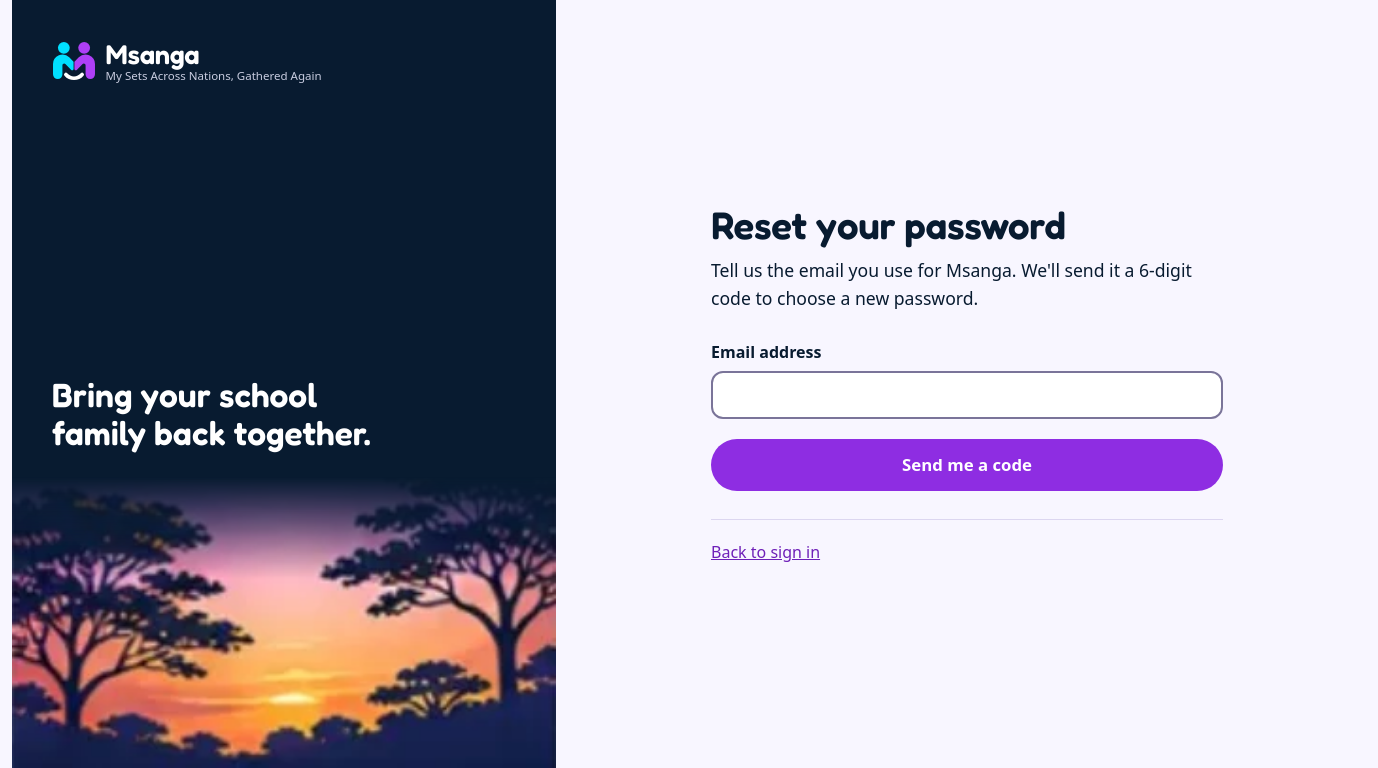
Test case: Forgot and reset password with a code (against the pretend API) › shows a wrong code on the code field, and keeps the page
Check: the heading "Reset your password" is shown, box [711,202,1066,248]
Type "ada@example.com" into the field labelled "Email address".
click(967, 395); type("ada@example.com")  # box [711,371,1223,420]
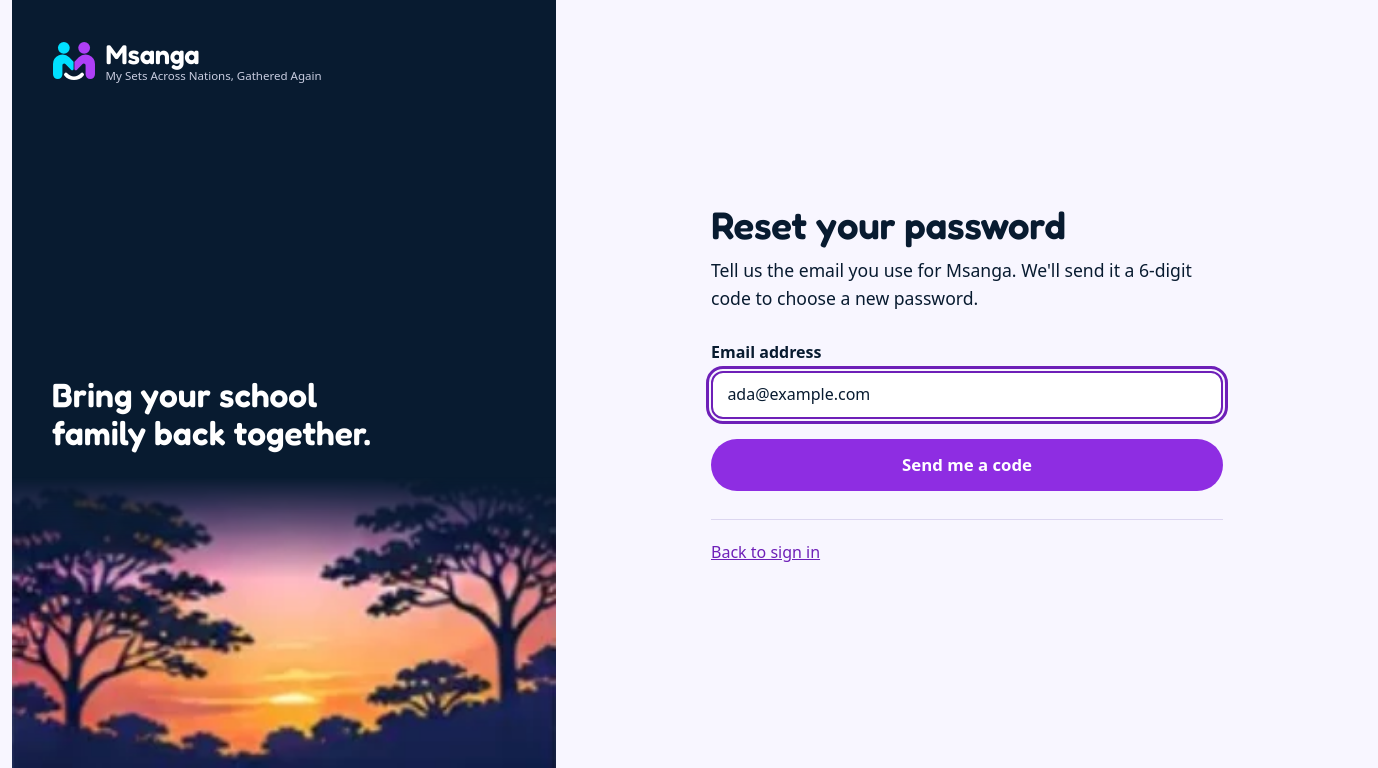
Click the button "Send me a code".
click(967, 466)  # box [711,440,1223,492]
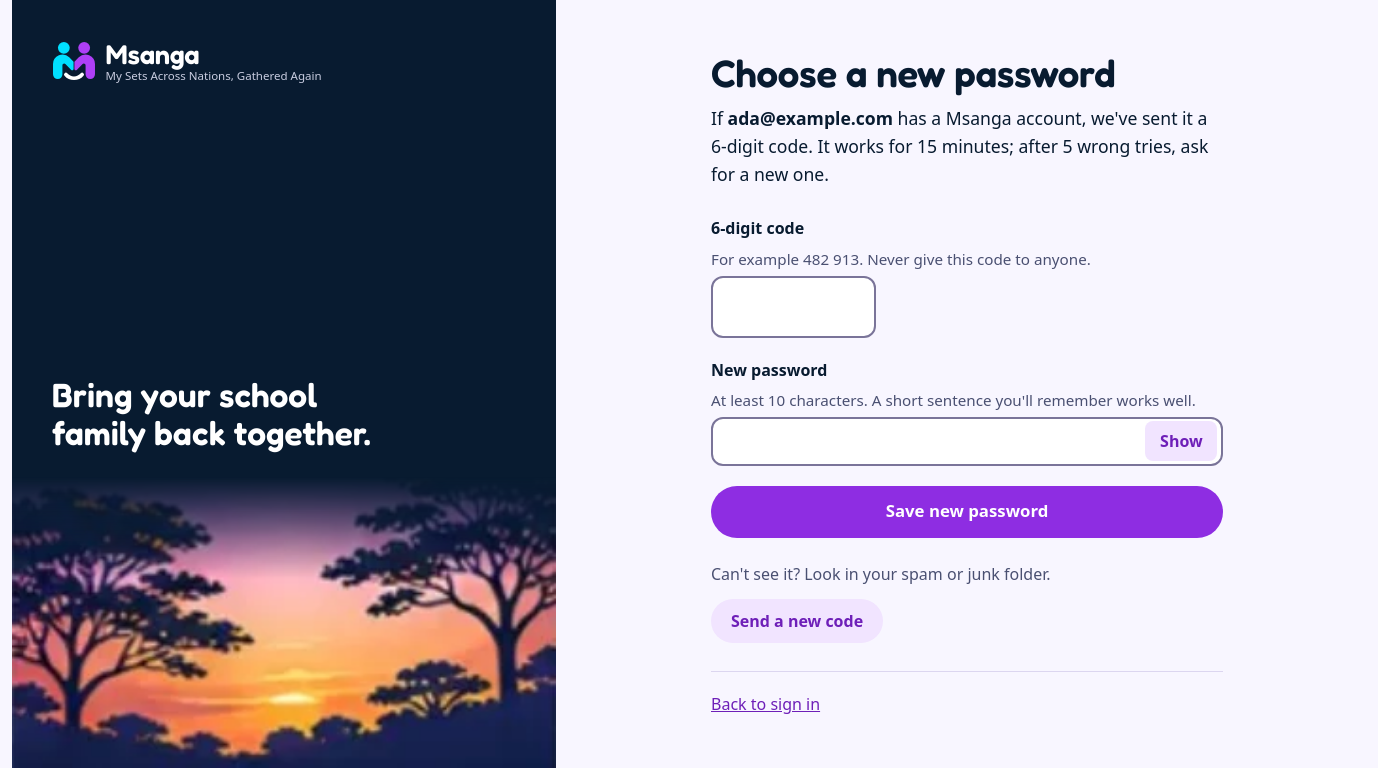
Check: the heading "Choose a new password" is shown, box [711,50,1116,96]
Type "000000" into the field labelled "6-digit code".
click(793, 307); type("000000")  # box [711,276,876,338]
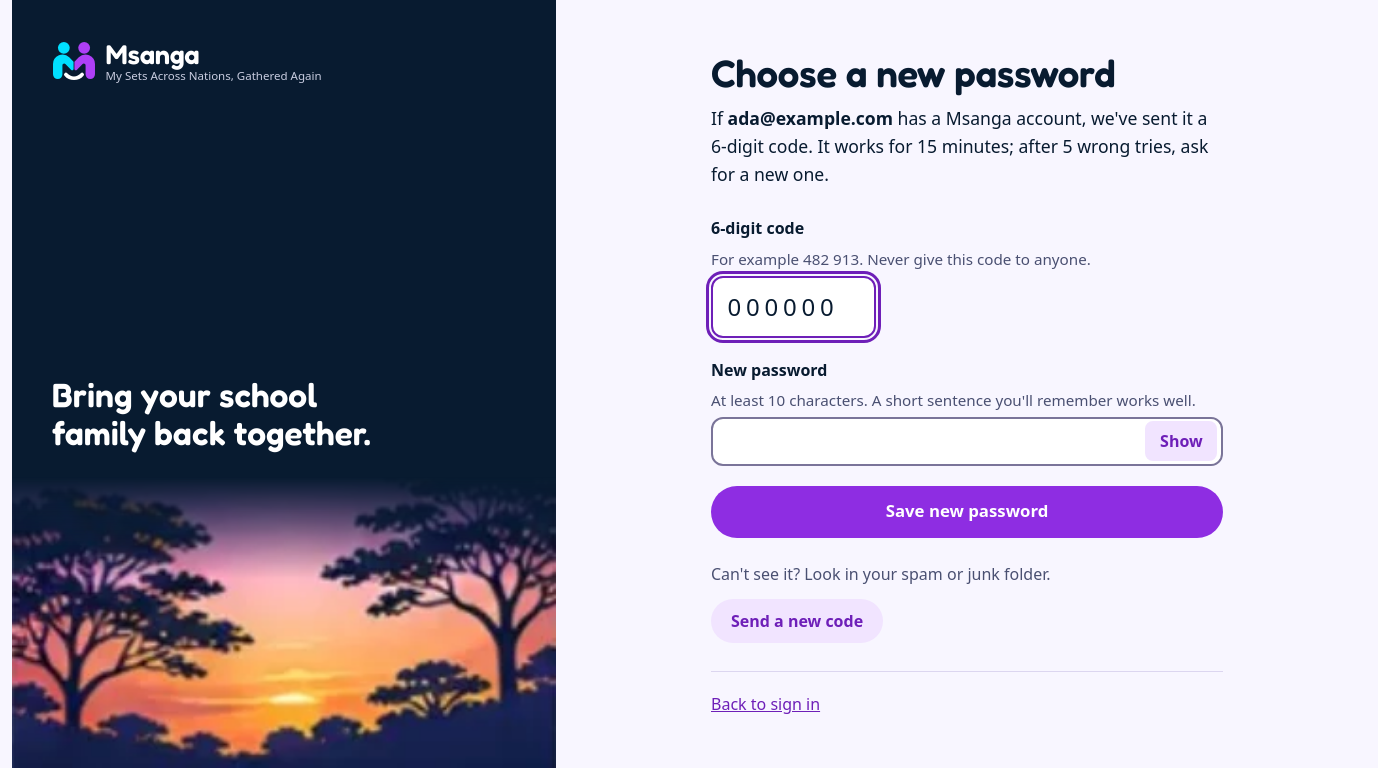
Type "a brand new password" into the password field labelled "New password".
click(967, 441); type("a brand new password")  # box [711,417,1223,466]
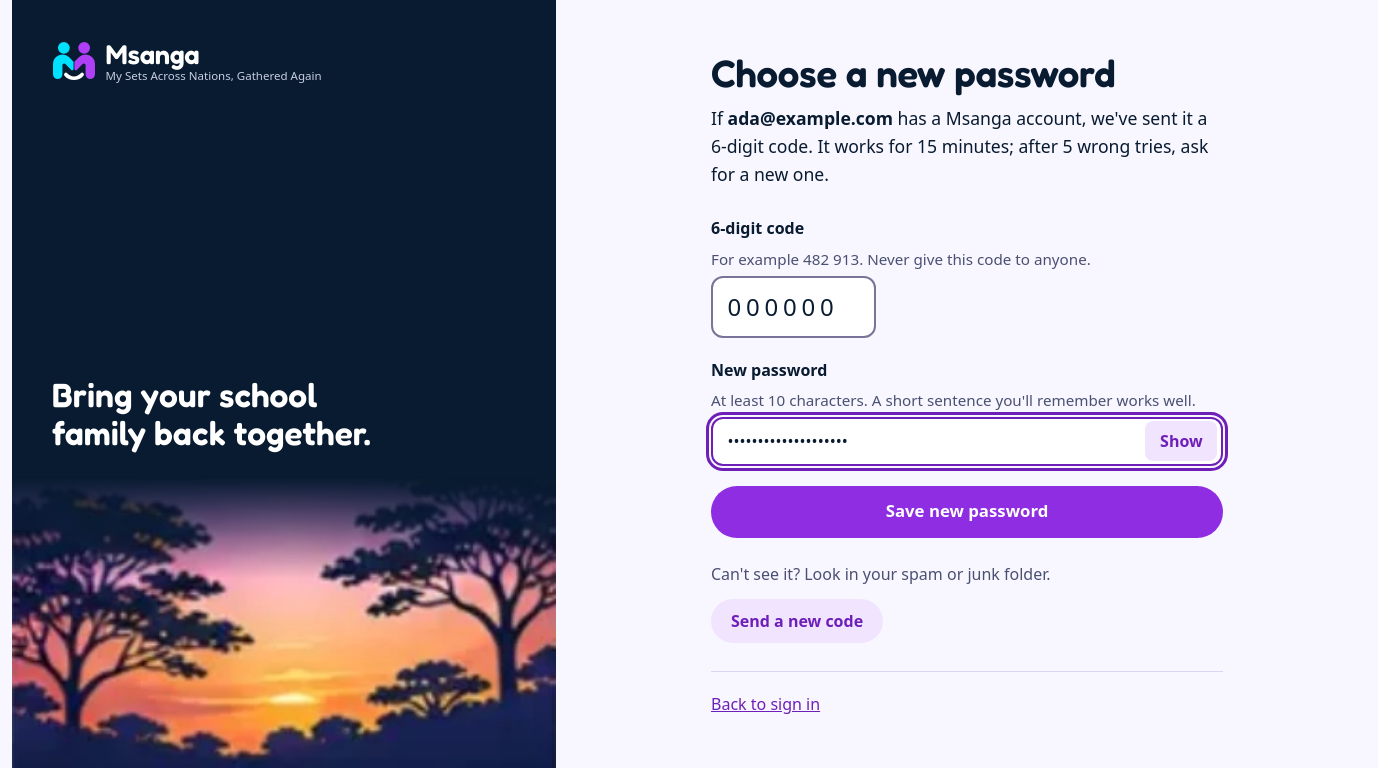
Click the button "Save new password".
click(967, 512)  # box [711,486,1223,538]
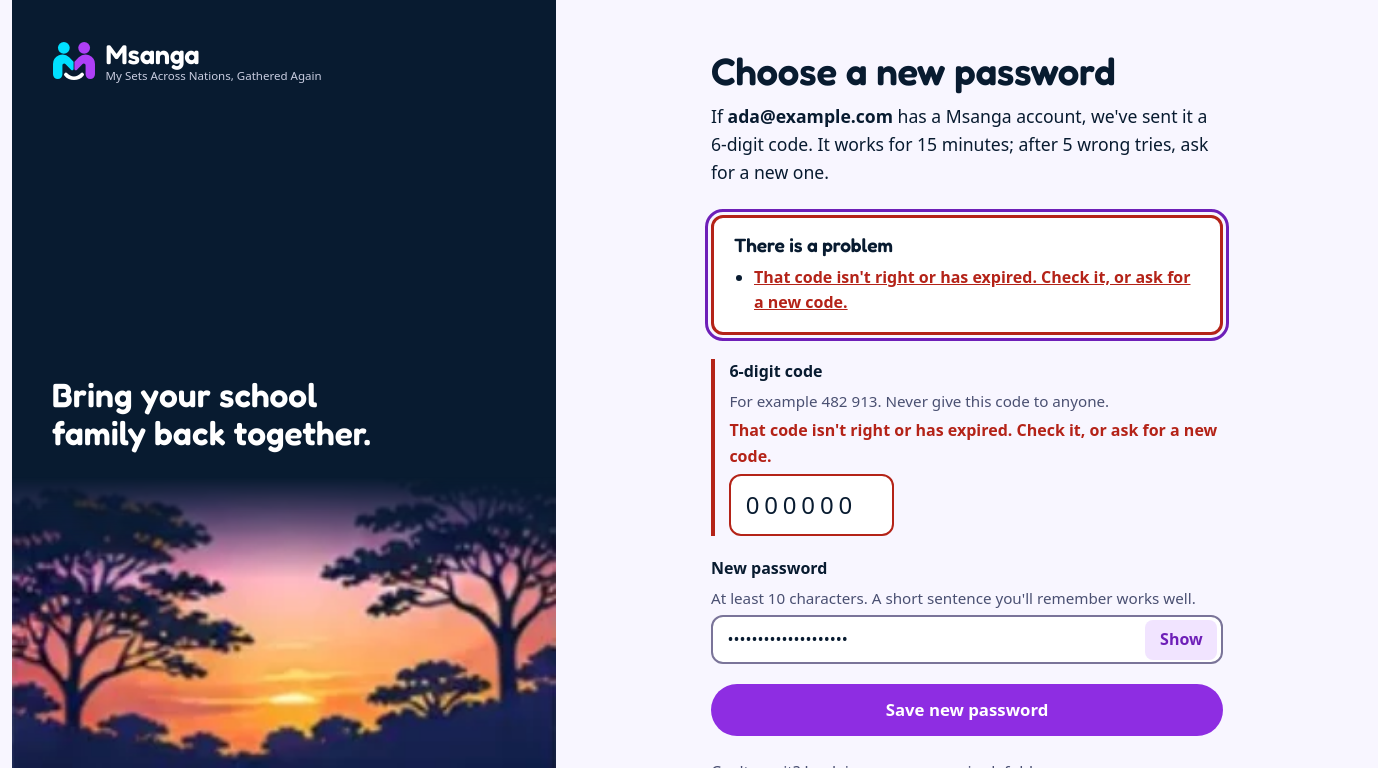
Check: the number of links "That code isn't right or has expired" is 2, box [754,266,1190,313]; [729,418,1223,469]
